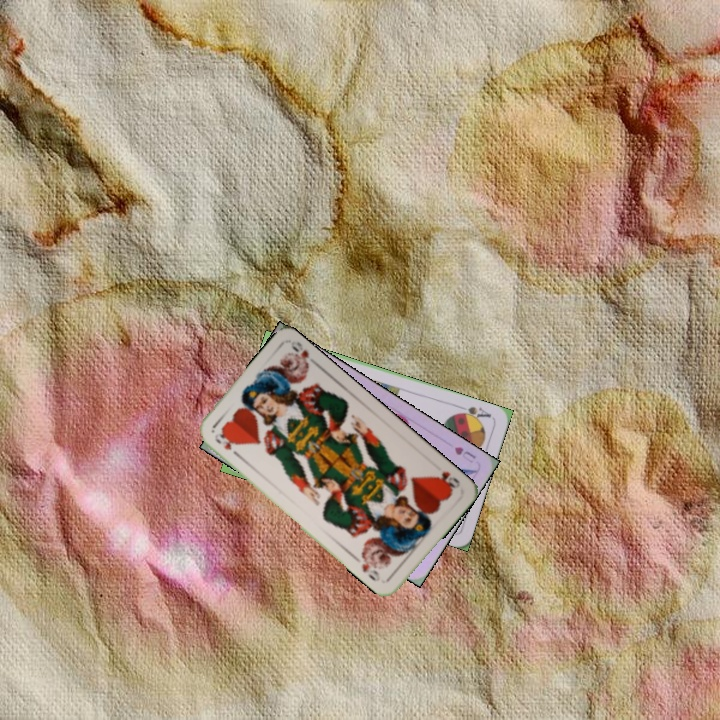HO: (210, 429, 243, 460), (432, 467, 463, 493)
HU: (450, 442, 479, 466)
SA: (453, 402, 494, 424)
